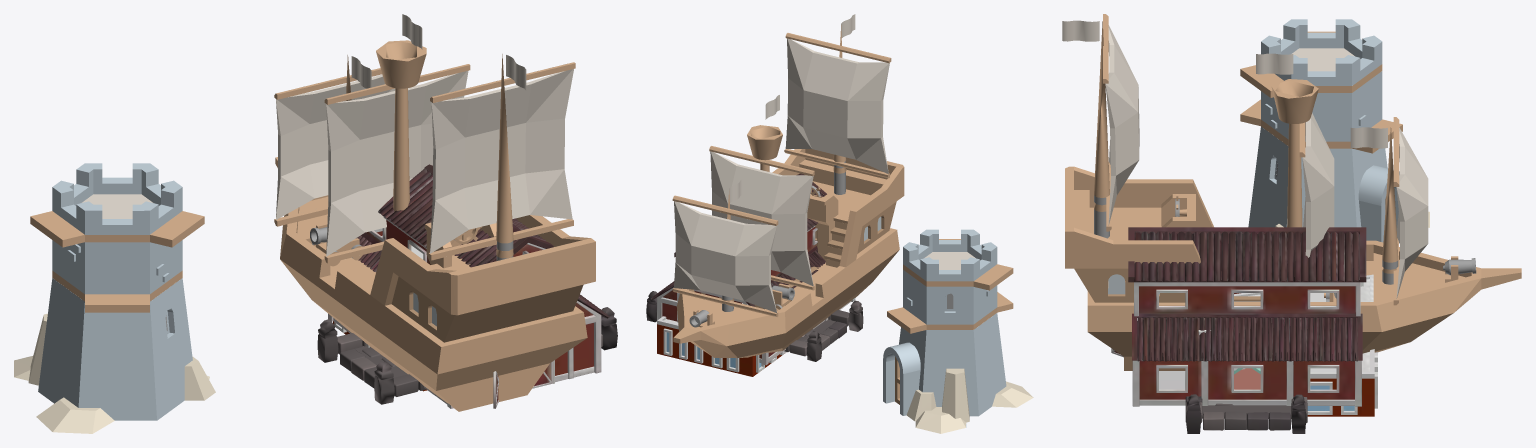
Rendered from kit_town.glb.
3 views of the same model, side by side, from view 1: azimuth 30°, elevation 25°; view 2: azimuth 150°, elevation 25°; view 3: azimuth 270°, elevation 25° (orthographic). The views are drawn at different scales.
Parts seen in each view (by area): view 1: ship_light_8angles, tower, sail_back 1, sail_middle 1, Barn_001, sail_front 1, Bridge.01; view 2: tower, ship_light_8angles, sail_back 1, sail_front 1, sail_middle 1, Bridge.01, Library_large, Barn_001; view 3: Barn_001, ship_light_8angles, tower, sail_back 1, sail_front 1, sail_middle 1, Bridge.01, Library_large, house_type01.
Part boxes in pixels (<box>): ship_light_8angles: <box>275,14,595,411</box>; tower: <box>14,163,215,433</box>; sail_back 1: <box>428,62,575,260</box>; sail_middle 1: <box>324,64,470,263</box>; Barn_001: <box>328,164,609,408</box>; sail_front 1: <box>274,68,395,226</box>; Bridge.01: <box>317,307,617,404</box>; tower: <box>883,229,1033,433</box>; ship_light_8angles: <box>673,14,904,357</box>; sail_back 1: <box>784,33,891,178</box>; sail_front 1: <box>672,195,778,316</box>; sail_middle 1: <box>709,146,814,290</box>; Bridge.01: <box>646,291,863,361</box>; Library_large: <box>657,303,786,376</box>; Barn_001: <box>651,173,855,365</box>; Barn_001: <box>1111,227,1366,406</box>; ship_light_8angles: <box>1062,20,1521,370</box>; tower: <box>1240,19,1429,242</box>; sail_back 1: <box>1103,14,1139,231</box>; sail_front 1: <box>1393,117,1428,305</box>; sail_middle 1: <box>1299,113,1334,257</box>; Bridge.01: <box>1185,394,1307,433</box>; Library_large: <box>1198,274,1377,416</box>; house_type01: <box>1234,368,1260,389</box>.
Size of the model in its own units: 9.84 by 7.01 by 8.1.
Materials: 28 (3 with a texture image).
